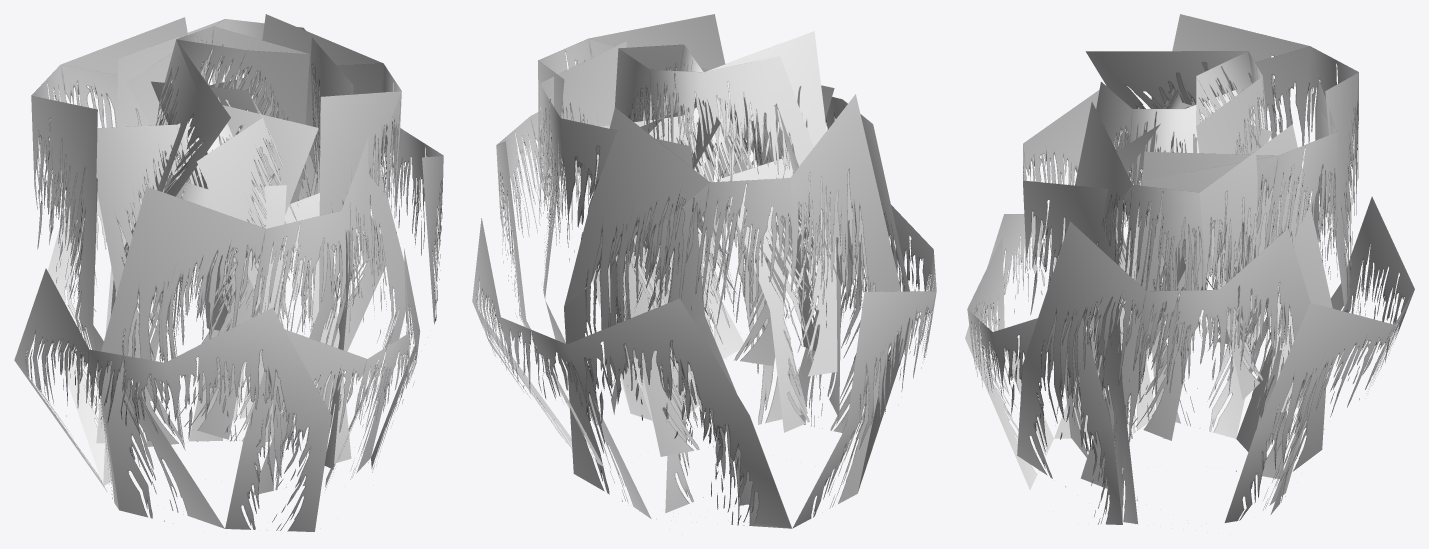
File: M_Bush.fbx
3 views of the same model, side by side, from view 1: azimuth 30°, elevation 25°; view 2: azimuth 150°, elevation 25°; view 3: azimuth 270°, elevation 25° (orthographic). The views are drawn at different scales.
Visible parts, largest first — view 1: Bush1; view 2: Bush1; view 3: Bush1.
Part boxes in pixels (x1,y1,x2,y2): Bush1: (14,14,443,531); Bush1: (472,14,936,528); Bush1: (965,14,1414,524).
Size of the model in its own units: 5.96 by 6.53 by 6.16.
